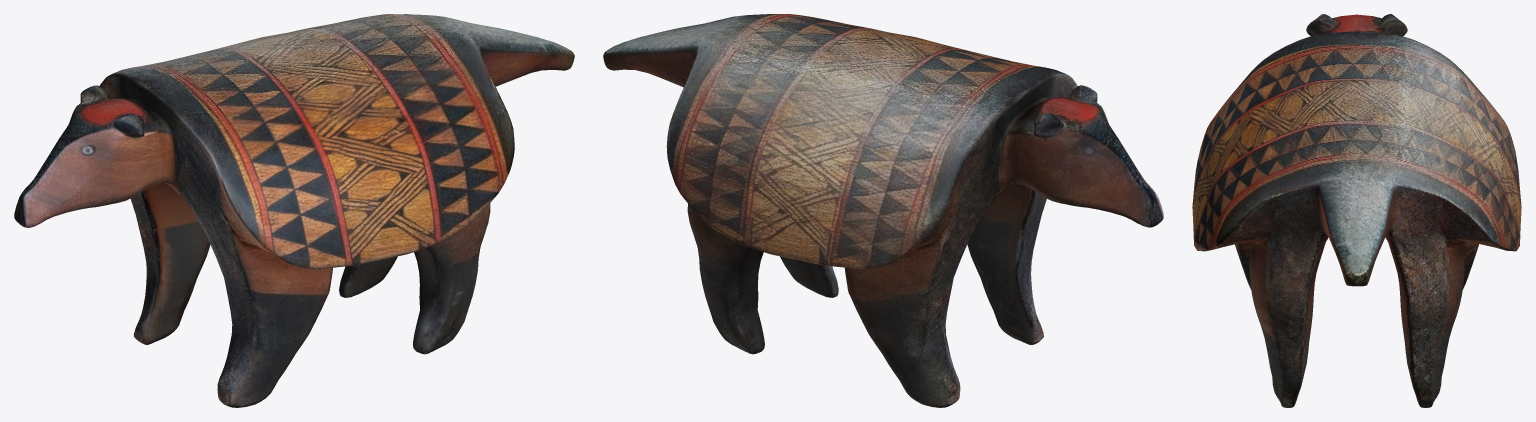
Rendered from Decorative Wooden Animal.glb.
The picture shows the model from 3 angles, left to right: view 1: azimuth 30°, elevation 25°; view 2: azimuth 150°, elevation 25°; view 3: azimuth 270°, elevation 25°; orthographic projection. The views are drawn at different scales.
Visible parts, largest first — view 1: tripo_node_cf3ec1e8-b227-4252-accb-afd0e14ccc81; view 2: tripo_node_cf3ec1e8-b227-4252-accb-afd0e14ccc81; view 3: tripo_node_cf3ec1e8-b227-4252-accb-afd0e14ccc81.
Boxes of the visible parts, x1=… form: tripo_node_cf3ec1e8-b227-4252-accb-afd0e14ccc81: x1=14, y1=14, x2=574, y2=407; tripo_node_cf3ec1e8-b227-4252-accb-afd0e14ccc81: x1=603, y1=14, x2=1163, y2=407; tripo_node_cf3ec1e8-b227-4252-accb-afd0e14ccc81: x1=1192, y1=14, x2=1521, y2=407.
Bounding box in the file's own units: 0.9995 × 0.5132 × 0.5679.
Materials: 1 (1 with a texture image).
